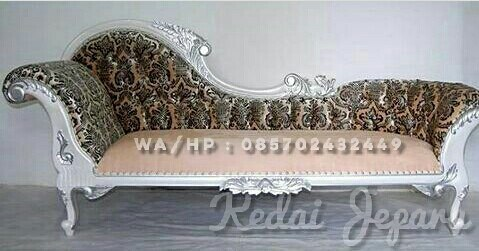Carving Chair: (28, 29, 477, 234)
